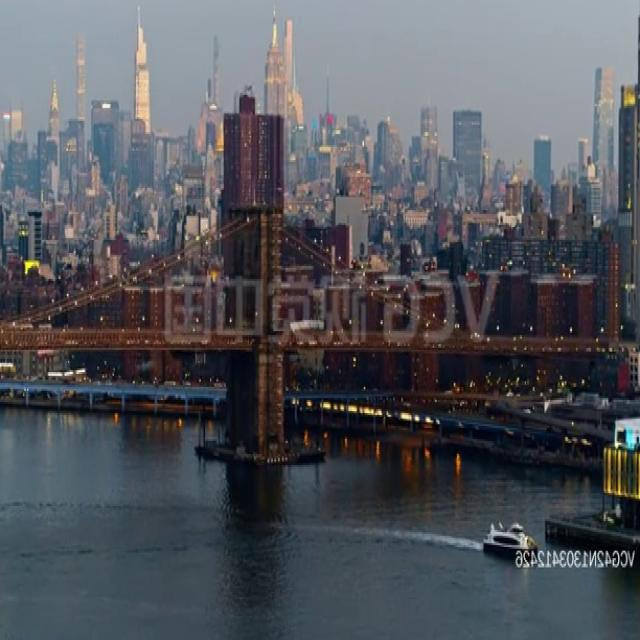houseboat: (485, 518, 542, 556)
